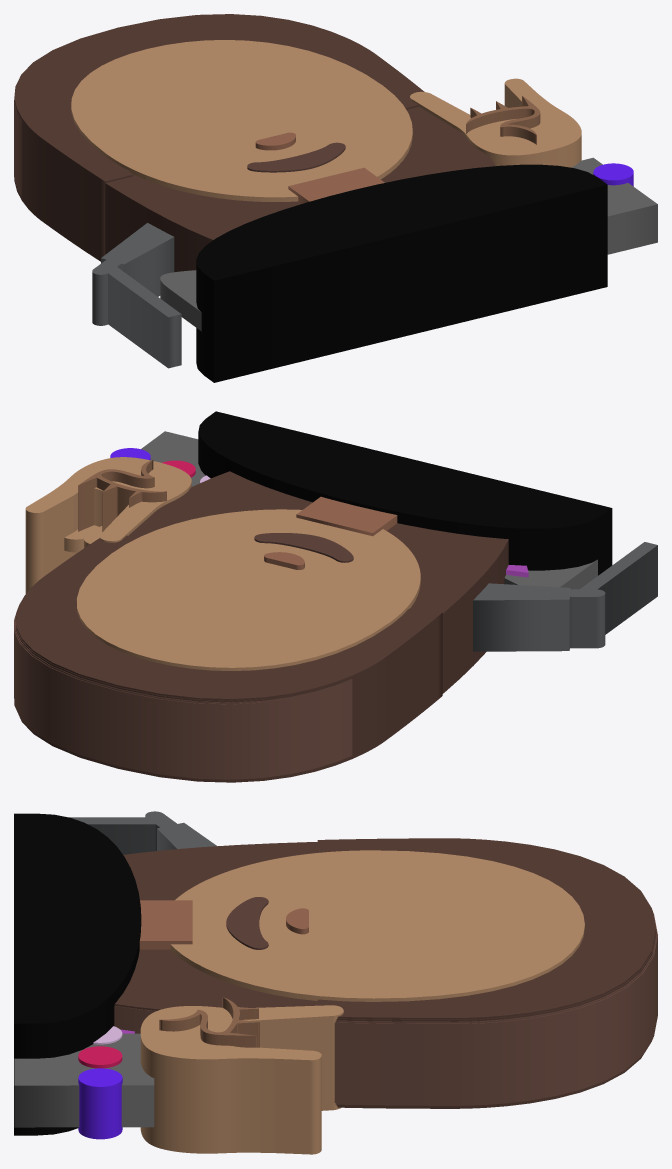
File: emoji_u1f469_1f3fd_200d_1f3a4.glb
The picture shows the model from 3 angles, top to bottom: view 1: azimuth 30°, elevation 25°; view 2: azimuth 150°, elevation 25°; view 3: azimuth 270°, elevation 25°; orthographic projection. The views are drawn at different scales.
Visible parts, largest first — view 1: emoji_u1f469_1f3fd_200d_1f3a4; view 2: emoji_u1f469_1f3fd_200d_1f3a4; view 3: emoji_u1f469_1f3fd_200d_1f3a4.
Part boxes in pixels (x1,y1,x2,y2): emoji_u1f469_1f3fd_200d_1f3a4: (14,14,657,382); emoji_u1f469_1f3fd_200d_1f3a4: (14,411,657,782); emoji_u1f469_1f3fd_200d_1f3a4: (14,811,657,1154).
Bounding box in the file's own units: 0.0336 × 0.0066 × 0.0334.
